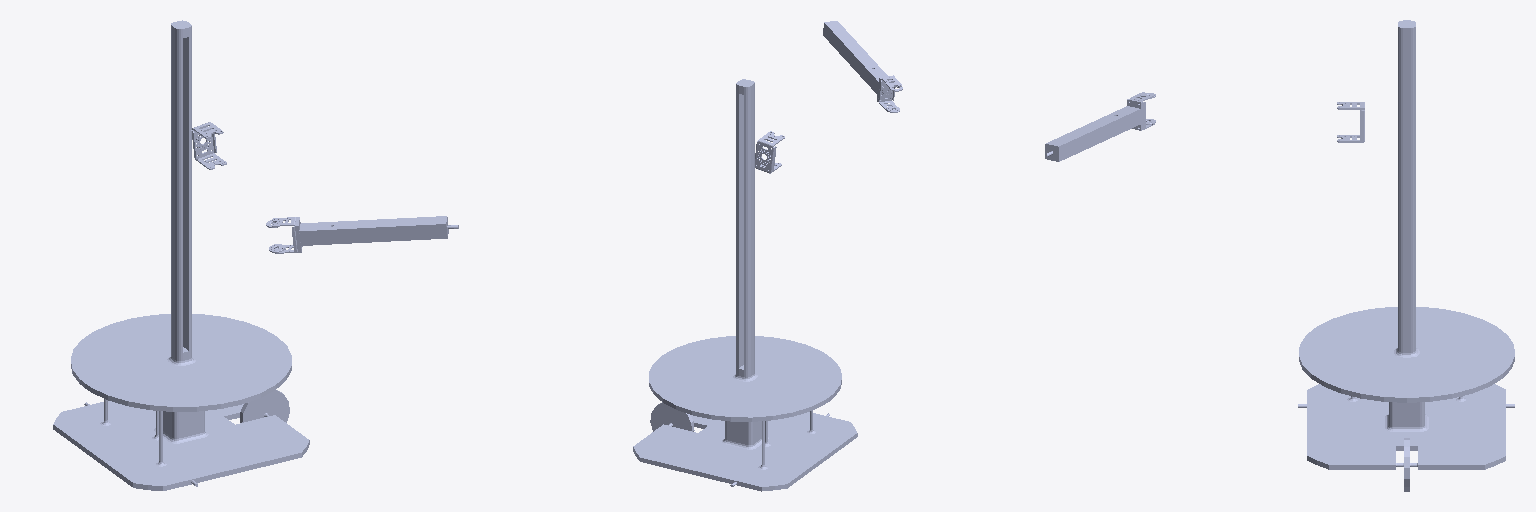
The robot description file, URDF, robot "mm3":
<?xml version="1.0" encoding="utf-8"?>
<!-- This URDF was automatically created by SolidWorks to URDF Exporter! Originally created by [author] ([email redacted]) 
     Commit Version: 1.6.0-1-g15f4949  Build Version: 1.6.7594.29634
     For more information, please see http://wiki.ros.org/sw_urdf_exporter -->
<robot
  name="mm3">
    <link name="dummy link" />
    <joint name="dummy joint" type="fixed">
        <parent link="dummy link"/>
        <child link="base_link"/>
    </joint>
  <link
    name="base_link">
    <inertial>
      <origin
        xyz="0.00173390217564579 0 0.0843061553484707"
        rpy="0 0 0" />
      <mass
        value="1.49284003139974" />
      <inertia
        ixx="0.0304523858984784"
        ixy="5.50406492658683E-19"
        ixz="0.00025216663663645"
        iyy="0.030899339272931"
        iyz="-4.35048782183177E-18"
        izz="0.014373902759802" />
    </inertial>
    <visual>
      <origin
        xyz="0 0 0"
        rpy="0 0 0" />
      <geometry>
        <mesh
          filename="package://mm3/meshes/base_link.STL" />
      </geometry>
      <material
        name="">
        <color
          rgba="0.792156862745098 0.819607843137255 0.933333333333333 1" />
      </material>
    </visual>
    <collision>
      <origin
        xyz="0 0 0"
        rpy="0 0 0" />
      <geometry>
        <mesh
          filename="package://mm3/meshes/base_link.STL" />
      </geometry>
    </collision>
  </link>
  <link
    name="left_wheel_link">
    <inertial>
      <origin
        xyz="0 -0.00381000000000001 5.55111512312578E-17"
        rpy="0 0 0" />
      <mass
        value="5.0346943989182399" />
      <inertia
        ixx="1.27787049860377E-05"
        ixy="1.68083100470696E-24"
        ixz="1.27720288529703E-22"
        iyy="2.52216583959841E-05"
        iyz="-2.76286596398839E-23"
        izz="1.27787049860377E-05" />
    </inertial>
    <visual>
      <origin
        xyz="0 0 0"
        rpy="0 0 0" />
      <geometry>
        <mesh
          filename="package://mm3/meshes/left_wheel_link.STL" />
      </geometry>
      <material
        name="">
        <color
          rgba="0.792156862745098 0.819607843137255 0.933333333333333 1" />
      </material>
    </visual>
    <collision>
      <origin
        xyz="0 0 0"
        rpy="0 0 0" />
      <geometry>
        <mesh
          filename="package://mm3/meshes/left_wheel_link.STL" />
      </geometry>
    </collision>
  </link>
  <joint
    name="left_wheel_joint"
    type="continuous">
    <origin
      xyz="-0.0634999999999999 0.1524 -0.00381000000000004"
      rpy="0 0 0" />
    <parent
      link="base_link" />
    <child
      link="left_wheel_link" />
    <axis
      xyz="0 1 0" />
  </joint>
  <link
    name="right_wheel_link">
    <inertial>
      <origin
        xyz="0 0.00380999999999998 -5.55111512312578E-17"
        rpy="0 0 0" />
      <mass
        value="5.0346943989182401" />
      <inertia
        ixx="1.27787049860378E-05"
        ixy="2.61579325107647E-23"
        ixz="6.80514049764725E-22"
        iyy="2.52216583959842E-05"
        iyz="2.5212465070615E-24"
        izz="1.27787049860378E-05" />
    </inertial>
    <visual>
      <origin
        xyz="0 0 0"
        rpy="0 0 0" />
      <geometry>
        <mesh
          filename="package://mm3/meshes/right_wheel_link.STL" />
      </geometry>
      <material
        name="">
        <color
          rgba="0.792156862745098 0.819607843137255 0.933333333333333 1" />
      </material>
    </visual>
    <collision>
      <origin
        xyz="0 0 0"
        rpy="0 0 0" />
      <geometry>
        <mesh
          filename="package://mm3/meshes/right_wheel_link.STL" />
      </geometry>
    </collision>
  </link>
  <joint
    name="right_wheel_joint"
    type="continuous">
    <origin
      xyz="-0.0635 -0.1524 -0.00381000000000004"
      rpy="0 0 0" />
    <parent
      link="base_link" />
    <child
      link="right_wheel_link" />
    <axis
      xyz="0 1 0" />
  </joint>
  <link
    name="slider_link">
    <inertial>
      <origin
        xyz="0.0149538868469983 5.55111512312578E-17 2.22044604925031E-16"
        rpy="0 0 0" />
      <mass
        value="0.147368863515062" />
      <inertia
        ixx="3.41312050549112E-05"
        ixy="-2.12817027997643E-20"
        ixz="2.00111533788828E-20"
        iyy="5.0015957687414E-05"
        iyz="8.4431467695391E-09"
        izz="5.99790889646899E-05" />
    </inertial>
    <visual>
      <origin
        xyz="0 0 0"
        rpy="0 0 0" />
      <geometry>
        <mesh
          filename="package://mm3/meshes/slider_link.STL" />
      </geometry>
      <material
        name="">
        <color
          rgba="0.792156862745098 0.819607843137255 0.933333333333333 1" />
      </material>
    </visual>
    <collision>
      <origin
        xyz="0 0 0"
        rpy="0 0 0" />
      <geometry>
        <mesh
          filename="package://mm3/meshes/slider_link.STL" />
      </geometry>
    </collision>
  </link>
  <joint
    name="Linear_joint"
    type="prismatic">
    <origin
      xyz="0 0 0.465419250997699"
      rpy="0 0 0" />
    <parent
      link="base_link" />
    <child
      link="slider_link" />
    <axis
      xyz="0 0 1" />
    <dynamics damping="0.0" friction="2.0" />
    <limit
      lower="-0.3"
      upper="0.4"
      effort="20"
      velocity="1" />
  </joint>
  <link
    name="left_arm_link1">
    <inertial>
      <origin
        xyz="5.55111512312578E-17 -7.54951656745106E-15 0.00721868535211012"
        rpy="0 0 0" />
      <mass
        value="0.000662271552264886" />
      <inertia
        ixx="3.49057884866459E-06"
        ixy="-1.91905902112302E-21"
        ixz="-2.04131450052993E-22"
        iyy="1.59254226762019E-06"
        iyz="2.76824983987479E-19"
        izz="3.31612378770382E-06" />
    </inertial>
    <visual>
      <origin
        xyz="0 0 0"
        rpy="0 0 0" />
      <geometry>
        <mesh
          filename="package://mm3/meshes/left_arm_link1.STL" />
      </geometry>
      <material
        name="">
        <color
          rgba="0.792156862745098 0.819607843137255 0.933333333333333 1" />
      </material>
    </visual>
    <collision>
      <origin
        xyz="0 0 0"
        rpy="0 0 0" />
      <geometry>
        <mesh
          filename="package://mm3/meshes/left_arm_link1.STL" />
      </geometry>
    </collision>
  </link>
  <joint
    name="left_arm_joint1"
    type="revolute">
    <origin
      xyz="0 0.06169 0"
      rpy="-1.5707963267949 -0.104271521762714 0" />
    <parent
      link="slider_link" />
    <child
      link="left_arm_link1" />
    <axis
      xyz="0 0 1" />
    <dynamics damping="0.0" friction="0.0" />
    <limit
      lower="-3.14"
      upper="3.14"
      effort="20"
      velocity="1" />
  </joint>
  <link
    name="left_arm_link2">
    <inertial>
      <origin
        xyz="-0.000386050977486174 0.131149620889107 0.00408244968667737"
        rpy="0 0 0" />
      <mass
        value="0.000269559994245249" />
      <inertia
        ixx="0.000626666445812035"
        ixy="1.01125491697749E-07"
        ixz="4.22206647780715E-09"
        iyy="5.26421344069657E-05"
        iyz="-6.97143268529835E-07"
        izz="0.000646289920709439" />
    </inertial>
    <visual>
      <origin
        xyz="0 0 0"
        rpy="0 0 0" />
      <geometry>
        <mesh
          filename="package://mm3/meshes/left_arm_link2.STL" />
      </geometry>
      <material
        name="">
        <color
          rgba="0.792156862745098 0.819607843137255 0.933333333333333 1" />
      </material>
    </visual>
    <collision>
      <origin
        xyz="0 0 0"
        rpy="0 0 0" />
      <geometry>
        <mesh
          filename="package://mm3/meshes/left_arm_link2.STL" />
      </geometry>
    </collision>
  </link>
  <joint
    name="left_arm_joint2"
    type="revolute">
    <origin
      xyz="0 0.00409999999999966 0.0328500000000012"
      rpy="-1.5707963267949 1.42649840138861 3.14159265358979" />
    <parent
      link="left_arm_link1" />
    <child
      link="left_arm_link2" />
    <axis
      xyz="0 0 1" />
    <dynamics damping="0.0" friction="0.0" />
    <limit
      lower="-3.14"
      upper="3.14"
      effort="20"
      velocity="1" />
  </joint>
  <link
    name="left_arm_link3">
    <inertial>
      <origin
        xyz="7.7585993185636E-12 0.127666730960711 0.00248796280788233"
        rpy="0 0 0" />
      <mass
        value="0.00117160247772208" />
      <inertia
        ixx="0.000432375218898243"
        ixy="1.9235141209419E-13"
        ixz="-1.97571929113185E-13"
        iyy="1.17109799447477E-05"
        iyz="-3.77855824152796E-11"
        izz="0.000431190534395112" />
    </inertial>
    <visual>
      <origin
        xyz="0 0 0"
        rpy="0 0 0" />
      <geometry>
        <mesh
          filename="package://mm3/meshes/left_arm_link3.STL" />
      </geometry>
      <material
        name="">
        <color
          rgba="0.792156862745098 0.819607843137255 0.933333333333333 1" />
      </material>
    </visual>
    <collision>
      <origin
        xyz="0 0 0"
        rpy="0 0 0" />
      <geometry>
        <mesh
          filename="package://mm3/meshes/left_arm_link3.STL" />
      </geometry>
    </collision>
  </link>
  <joint
    name="left_arm_joint3"
    type="revolute">
    <origin
      xyz="0 0.275500000000001 0.00132500000000046"
      rpy="0 0 -1.22699295300387" />
    <parent
      link="left_arm_link2" />
    <child
      link="left_arm_link3" />
    <axis
      xyz="0 0 1" />
    <dynamics damping="0.0" friction="0.0" />
    <limit
      lower="-3.14"
      upper="3.14"
      effort="20"
      velocity="1" />
  </joint>
  <link
    name="left_gripper_link1">
    <inertial>
      <origin
        xyz="-1.4607334100844E-06 -0.00194327287027751 0.0117967697171139"
        rpy="0 0 0" />
      <mass
        value="0.000053976956819555" />
      <inertia
        ixx="3.80757548207709E-05"
        ixy="7.15084343138609E-10"
        ixz="4.25117723141182E-10"
        iyy="1.26201502037341E-05"
        iyz="6.99476870158451E-06"
        izz="3.03777532412141E-05" />
    </inertial>
    <visual>
      <origin
        xyz="0 0 0"
        rpy="0 0 0" />
      <geometry>
        <mesh
          filename="package://mm3/meshes/left_gripper_link1.STL" />
      </geometry>
      <material
        name="">
        <color
          rgba="0.792156862745098 0.819607843137255 0.933333333333333 1" />
      </material>
    </visual>
    <collision>
      <origin
        xyz="0 0 0"
        rpy="0 0 0" />
      <geometry>
        <mesh
          filename="package://mm3/meshes/left_gripper_link1.STL" />
      </geometry>
    </collision>
  </link>
  <joint
    name="left_gripper_joint1"
    type="revolute">
    <origin
      xyz="0 0.2457 0.00252500000000067"
      rpy="1.5707963267949 0.0962411704932018 3.14159265358979" />
    <parent
      link="left_arm_link3" />
    <child
      link="left_gripper_link1" />
    <axis
      xyz="0 0 1" />
    <dynamics damping="0.0" friction="10.0" />
    <limit
      lower="3.14"
      upper="3.14"
      effort="0"
      velocity="0" />
  </joint>
  <link
    name="right_arm_link1">
    <inertial>
      <origin
        xyz="1.38777878078145E-17 7.43849426498855E-15 0.00721868535211012"
        rpy="0 0 0" />
      <mass
        value="0.000662271552264882" />
      <inertia
        ixx="3.49057884866457E-06"
        ixy="1.64112633530521E-21"
        ixz="2.17326351823307E-21"
        iyy="1.59254226762017E-06"
        iyz="-2.76309833976513E-19"
        izz="3.31612378770381E-06" />
    </inertial>
    <visual>
      <origin
        xyz="0 0 0"
        rpy="0 0 0" />
      <geometry>
        <mesh
          filename="package://mm3/meshes/right_arm_link1.STL" />
      </geometry>
      <material
        name="">
        <color
          rgba="0.792156862745098 0.819607843137255 0.933333333333333 1" />
      </material>
    </visual>
    <collision>
      <origin
        xyz="0 0 0"
        rpy="0 0 0" />
      <geometry>
        <mesh
          filename="package://mm3/meshes/right_arm_link1.STL" />
      </geometry>
    </collision>
  </link>
  <joint
    name="right_arm_joint1"
    type="revolute">
    <origin
      xyz="0 -0.0616899999999999 0"
      rpy="1.5707963267949 -0.113951864414894 0" />
    <parent
      link="slider_link" />
    <child
      link="right_arm_link1" />
    <axis
      xyz="0 0 1" />
    <dynamics damping="0.0" friction="0.0" />
    <limit
      lower="-3.14"
      upper="3.14"
      effort="20"
      velocity="1" />
  </joint>
  <link
    name="right_arm_link2">
    <inertial>
      <origin
        xyz="0.000386050993758116 0.131149615601439 -0.00408244949469516"
        rpy="0 0 0" />
      <mass
        value="0.000269559986614646" />
      <inertia
        ixx="0.000626666444389549"
        ixy="-1.01125387345862E-07"
        ixz="4.22200360437853E-09"
        iyy="5.26421329293233E-05"
        iyz="6.97144066518244E-07"
        izz="0.000646289919296432" />
    </inertial>
    <visual>
      <origin
        xyz="0 0 0"
        rpy="0 0 0" />
      <geometry>
        <mesh
          filename="package://mm3/meshes/right_arm_link2.STL" />
      </geometry>
      <material
        name="">
        <color
          rgba="0.792156862745098 0.819607843137255 0.933333333333333 1" />
      </material>
    </visual>
    <collision>
      <origin
        xyz="0 0 0"
        rpy="0 0 0" />
      <geometry>
        <mesh
          filename="package://mm3/meshes/right_arm_link2.STL" />
      </geometry>
    </collision>
  </link>
  <joint
    name="right_arm_joint2"
    type="revolute">
    <origin
      xyz="0 -0.0041000000000001 0.03285"
      rpy="1.5707963267949 -0.223639177067847 0" />
    <parent
      link="right_arm_link1" />
    <child
      link="right_arm_link2" />
    <axis
      xyz="0 0 1" />
    <dynamics damping="0.0" friction="0.0" />
    <limit
      lower="-3.14"
      upper="3.14"
      effort="20"
      velocity="1" />
  </joint>
  <link
    name="right_arm_link3">
    <inertial>
      <origin
        xyz="-8.03945798821815E-12 0.127666730954126 -0.00248796280778008"
        rpy="0 0 0" />
      <mass
        value="0.000117160247772503" />
      <inertia
        ixx="0.000432375218957"
        ixy="1.31457535161802E-13"
        ixz="-2.12472692163925E-13"
        iyy="1.17109798859883E-05"
        iyz="3.76200031565623E-11"
        izz="0.00043119053439511" />
    </inertial>
    <visual>
      <origin
        xyz="0 0 0"
        rpy="0 0 0" />
      <geometry>
        <mesh
          filename="package://mm3/meshes/right_arm_link3.STL" />
      </geometry>
      <material
        name="">
        <color
          rgba="0.792156862745098 0.819607843137255 0.933333333333333 1" />
      </material>
    </visual>
    <collision>
      <origin
        xyz="0 0 0"
        rpy="0 0 0" />
      <geometry>
        <mesh
          filename="package://mm3/meshes/right_arm_link3.STL" />
      </geometry>
    </collision>
  </link>
  <joint
    name="right_arm_joint3"
    type="revolute">
    <origin
      xyz="0 0.275500000000005 -0.00132500000000046"
      rpy="0 0 -1.19168018686034" />
    <parent
      link="right_arm_link2" />
    <child
      link="right_arm_link3" />
    <axis
      xyz="0 0 1" />
    <dynamics damping="0.0" friction="0.0" />
    <limit
      lower="-3.14"
      upper="3.14"
      effort="20"
      velocity="1" />
  </joint>
  <link
    name="right_gripper_link1">
    <inertial>
      <origin
        xyz="1.4607334758443E-06 0.00194327287032903 0.0117967697171131"
        rpy="0 0 0" />
      <mass
        value="0.0000539769568195551" />
      <inertia
        ixx="3.8075754820771E-05"
        ixy="7.1508434317527E-10"
        ixz="-4.25117723114839E-10"
        iyy="1.26201502037342E-05"
        iyz="-6.99476870158452E-06"
        izz="3.03777532412142E-05" />
    </inertial>
    <visual>
      <origin
        xyz="0 0 0"
        rpy="0 0 0" />
      <geometry>
        <mesh
          filename="package://mm3/meshes/right_gripper_link1.STL" />
      </geometry>
      <material
        name="">
        <color
          rgba="0.792156862745098 0.819607843137255 0.933333333333333 1" />
      </material>
    </visual>
    <collision>
      <origin
        xyz="0 0 0"
        rpy="0 0 0" />
      <geometry>
        <mesh
          filename="package://mm3/meshes/right_gripper_link1.STL" />
      </geometry>
    </collision>
  </link>
  <joint
    name="right_gripper_joint1"
    type="revolute">
    <origin
      xyz="0 0.245700000000154 -0.00252499999994871"
      rpy="-1.5707963267949 -0.0104102836047576 0" />
    <parent
      link="right_arm_link3" />
    <child
      link="right_gripper_link1" />
    <axis
      xyz="0 0 1" />
    <dynamics damping="0.0" friction="10.0" />
    <limit
      lower="0"
      upper="0"
      effort="0"
      velocity="0" />
  </joint>
 

  <transmission name="Linear_joint_trans">
    <type> transmission_interface/SimpleTransmission</type>
    <joint name="Linear_joint">
      <hardwareInterface>EffortJointInterface</hardwareInterface>
    </joint>
    <actuator name="Linear_joint_motor">
      <mechanicalReduction>50</mechanicalReduction>
    </actuator>
  </transmission>
 
  <transmission name="left_arm_joint1_trans">
    <type> transmission_interface/SimpleTransmission</type>
    <joint name="left_arm_joint1">
      <hardwareInterface>EffortJointInterface</hardwareInterface>
    </joint>
    <actuator name="left_arm_joint1_motor">
      <mechanicalReduction>50</mechanicalReduction>
    </actuator>
  </transmission>
  <transmission name="left_arm_joint2_trans">
    <type> transmission_interface/SimpleTransmission</type>
    <joint name="left_arm_joint2">
      <hardwareInterface>EffortJointInterface</hardwareInterface>
    </joint>
    <actuator name="left_arm_joint2_motor">
      <mechanicalReduction>50</mechanicalReduction>
    </actuator>
  </transmission>
     <transmission name="left_arm_joint3_trans">
    <type> transmission_interface/SimpleTransmission</type>
    <joint name="left_arm_joint3">
      <hardwareInterface>EffortJointInterface</hardwareInterface>
    </joint>
    <actuator name="left_arm_joint3_motor">
      <mechanicalReduction>50</mechanicalReduction>
    </actuator>
  </transmission>
  <transmission name="left_gripper_joint1_trans">
    <type> transmission_interface/SimpleTransmission</type>
    <joint name="left_gripper_joint1">
      <hardwareInterface>EffortJointInterface</hardwareInterface>
    </joint>
    <actuator name="left_gripper_joint1_motor">
      <mechanicalReduction>50</mechanicalReduction>
    </actuator>
  </transmission> 
  
      <transmission name="right_arm_joint1_trans">
    <type> transmission_interface/SimpleTransmission</type>
    <joint name="right_arm_joint1">
      <hardwareInterface>EffortJointInterface</hardwareInterface>
    </joint>
    <actuator name="right_arm_joint1_motor">
      <mechanicalReduction>50</mechanicalReduction>
    </actuator>
  </transmission>
  <transmission name="right_arm_joint2_trans">
    <type> transmission_interface/SimpleTransmission</type>
    <joint name="right_arm_joint2">
      <hardwareInterface>EffortJointInterface</hardwareInterface>
    </joint>
    <actuator name="right_arm_joint2_motor">
      <mechanicalReduction>50</mechanicalReduction>
    </actuator>
  </transmission>
    <transmission name="right_arm_joint3_trans">
    <type> transmission_interface/SimpleTransmission</type>
    <joint name="right_arm_joint3">
      <hardwareInterface>EffortJointInterface</hardwareInterface>
    </joint>
    <actuator name="right_arm_joint3_motor">
      <mechanicalReduction>50</mechanicalReduction>
    </actuator>
  </transmission>
  <transmission name="right_gripper_joint1_trans">
    <type> transmission_interface/SimpleTransmission</type>
    <joint name="right_gripper_joint1">
      <hardwareInterface>EffortJointInterface</hardwareInterface>
    </joint>
    <actuator name="right_gripper_joint1_motor">
      <mechanicalReduction>50</mechanicalReduction>
    </actuator>
  </transmission>  

  
  <transmission name="left_wheel_trans">
    <type> transmission_interface/SimpleTransmission</type>
    <joint name="left_wheel_joint">
      <hardwareInterface>VelocityJointInterface</hardwareInterface>
    </joint>
    <actuator name="left_wheel_motor">
      <mechanicalReduction>5</mechanicalReduction>
    </actuator>
  </transmission>

  <transmission name="right_wheel_trans">
    <type> transmission_interface/SimpleTransmission</type>
    <joint name="right_wheel_joint">
      <hardwareInterface>VelocityJointInterface</hardwareInterface>
    </joint>
    <actuator name="right_wheel_motor">
      <mechanicalReduction>5</mechanicalReduction>
    </actuator>
  </transmission>

</robot>

--- Facts derived from the render (not from the file) ---
Views: 3 orthographic renders of the robot side by side, from view 1: azimuth 30°, elevation 25°; view 2: azimuth 150°, elevation 25°; view 3: azimuth 270°, elevation 25°.
Robot: mm3 — 13 links, 12 joints (8 revolute, 2 continuous, 1 prismatic, 1 fixed); root link dummy link; default pose: joints at zero except 1 at the middle of their limits (left_gripper_joint1 = 3.14).
Links seen in each view (by area): view 1: base_link, right_arm_link3, right_arm_link1; view 2: base_link, right_arm_link3, right_arm_link1; view 3: base_link, right_arm_link3, right_arm_link1.
Boxes of the visible links, box(x1,y1,x2,y2) form: base_link: box(53, 20, 309, 490); right_arm_link3: box(266, 216, 458, 253); right_arm_link1: box(191, 122, 226, 169); base_link: box(633, 79, 857, 491); right_arm_link3: box(823, 21, 902, 112); right_arm_link1: box(755, 131, 784, 173); base_link: box(1298, 20, 1514, 491); right_arm_link3: box(1045, 92, 1155, 161); right_arm_link1: box(1337, 102, 1364, 142).
Bounding box of the posed robot: 0.3224 × 0.6612 × 0.6591 m (x, y, z).
Meshes: 12 distinct files referenced, 3 mesh visuals loaded (3 binary STL); not drawn: 9 (reference not matched to a file when rendering).